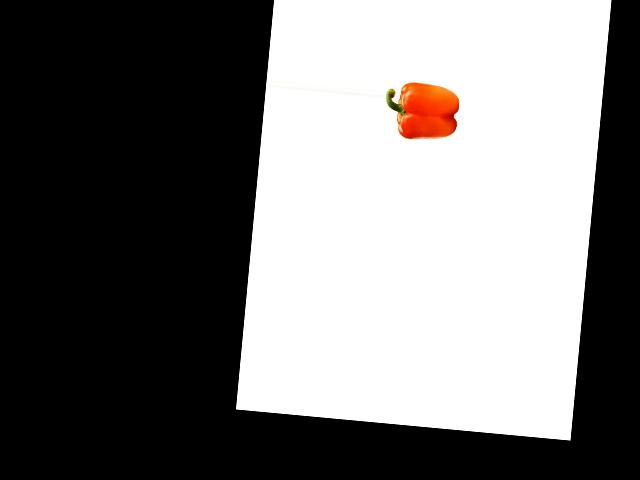bell_pepper: (381, 73, 461, 148)
